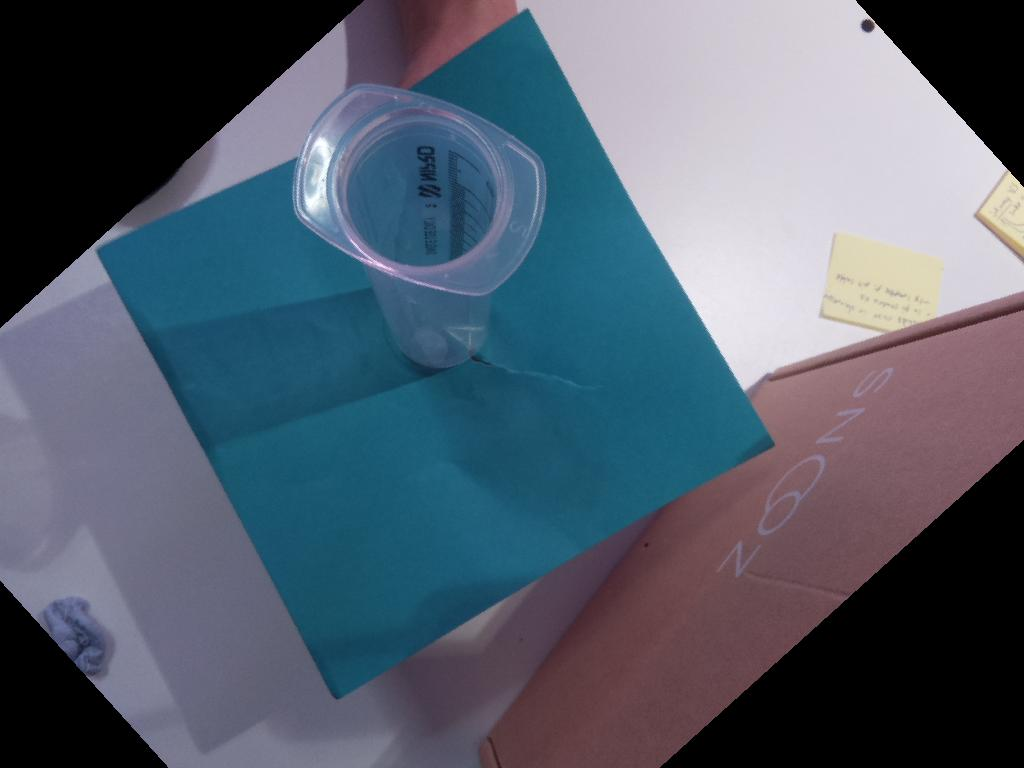clean: (291, 84, 549, 299)
